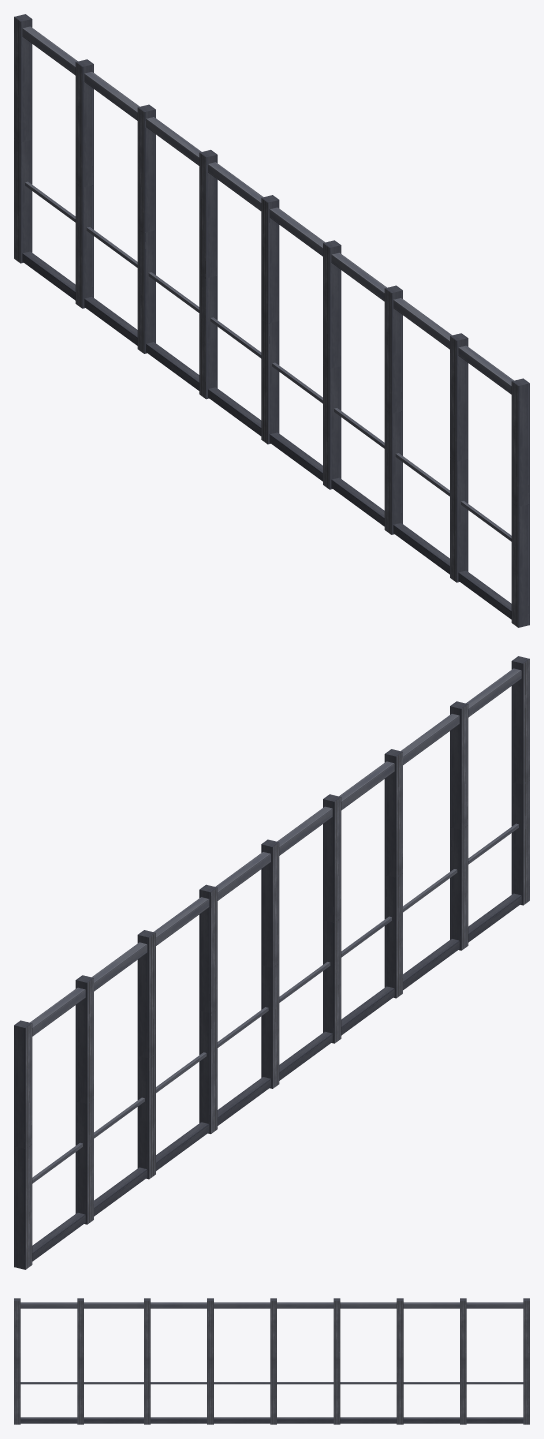
The model's file is MetalFence.fbx.
3 renders of one model, top to bottom at view 1: azimuth 30°, elevation 25°; view 2: azimuth 150°, elevation 25°; view 3: azimuth 270°, elevation 25°, orthographic. The views are drawn at different scales.
Visible parts, largest first — view 1: Cube; view 2: Cube; view 3: Cube.
Boxes of the visible parts, box(x1,y1,x2,y2) form: Cube: box(14, 14, 529, 627); Cube: box(14, 656, 529, 1269); Cube: box(14, 1298, 529, 1424).
Size of the model in its own units: 10 by 200 by 756.
